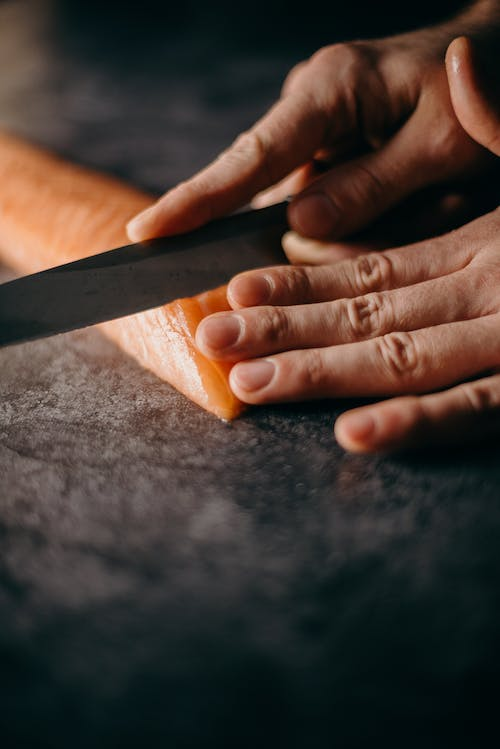knife: (0, 198, 292, 349)
